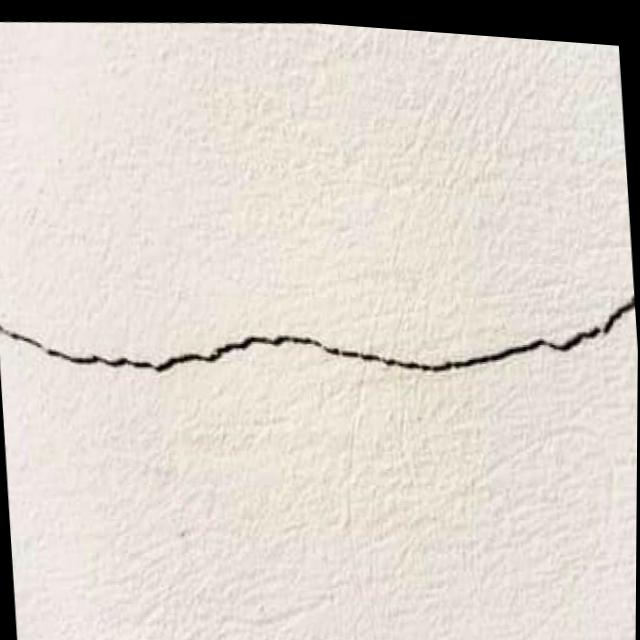Crack: (0, 221, 639, 422)
